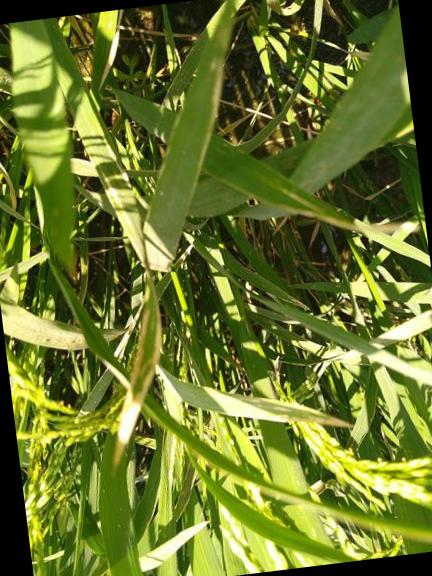Leaf Blight: (173, 0, 250, 148), (162, 368, 355, 427), (112, 269, 161, 476), (275, 185, 419, 235)
